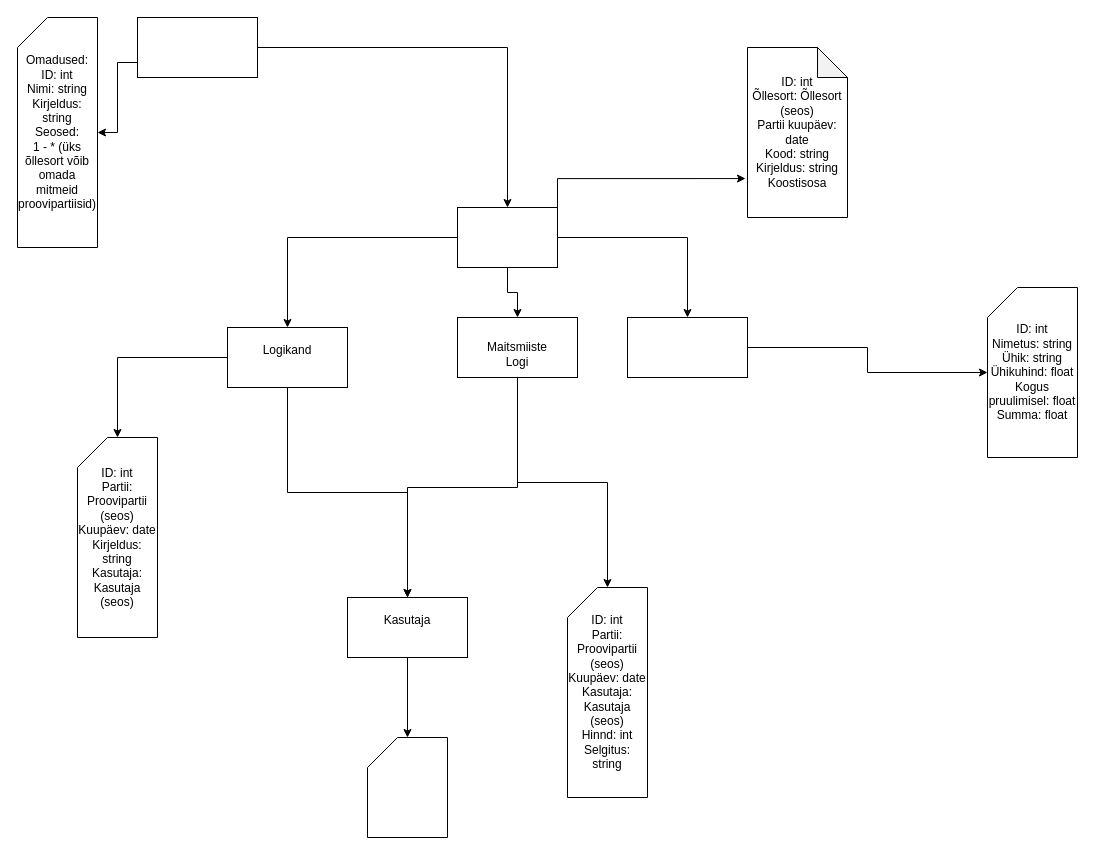
This 1095x855 diagram has some shape labels left out. Each missing label, with the centre of its shape:
"ID: int Nimi: string Kasutajanimi: string Parool: string" belongs at (407,787).
"Koostisosa" belongs at (687,347).
"Proovipartii" belongs at (507,237).
"Õllesort" belongs at (197,47).
